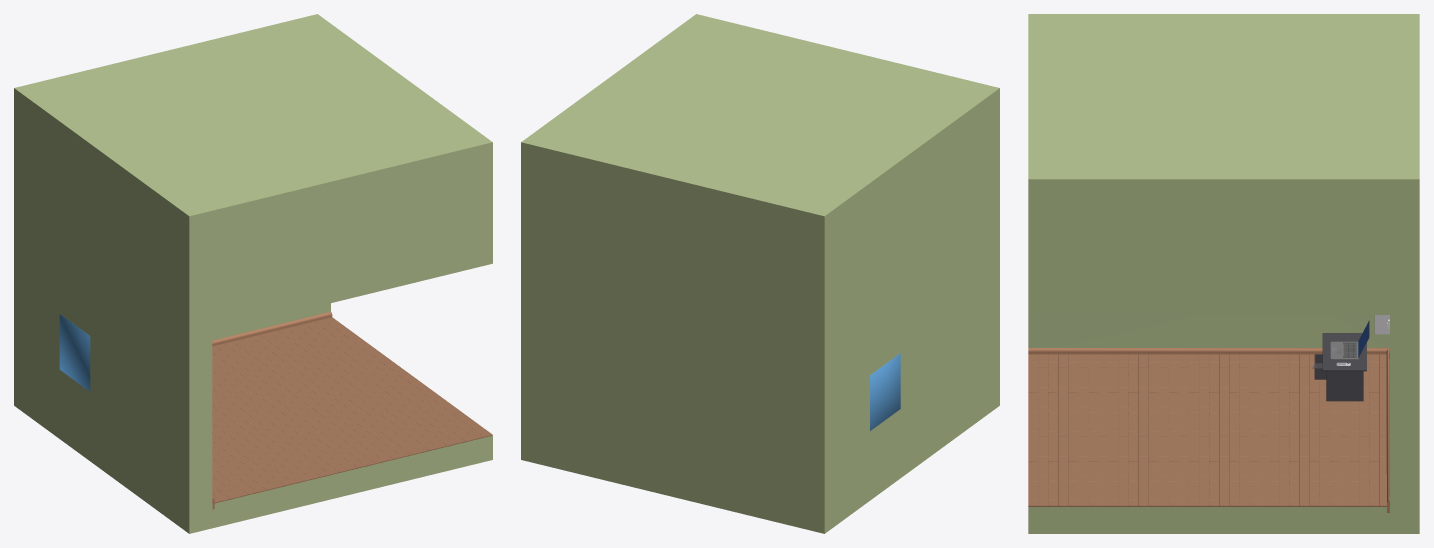
Rendered from room_v6.glb.
3 renders of one model, left to right at view 1: azimuth 30°, elevation 25°; view 2: azimuth 150°, elevation 25°; view 3: azimuth 270°, elevation 25°, orthographic. The views are drawn at different scales.
Parts seen in each view (by area): view 1: walls, floor_big, window, floor_trim; view 2: walls, window; view 3: walls, floor_big, floor_trim, Plane.006.
Boxes of the visible parts, bbox=[...] form: walls: bbox=[14, 14, 492, 533]; floor_big: bbox=[212, 317, 492, 503]; window: bbox=[59, 314, 90, 391]; floor_trim: bbox=[212, 311, 332, 509]; walls: bbox=[521, 14, 999, 533]; window: bbox=[870, 353, 900, 430]; walls: bbox=[1028, 14, 1419, 533]; floor_big: bbox=[1028, 353, 1389, 506]; floor_trim: bbox=[1028, 348, 1389, 512]; Plane.006: bbox=[1314, 333, 1366, 401].
Bounding box in the file's own units: 7.97 × 7.97 × 7.97.
